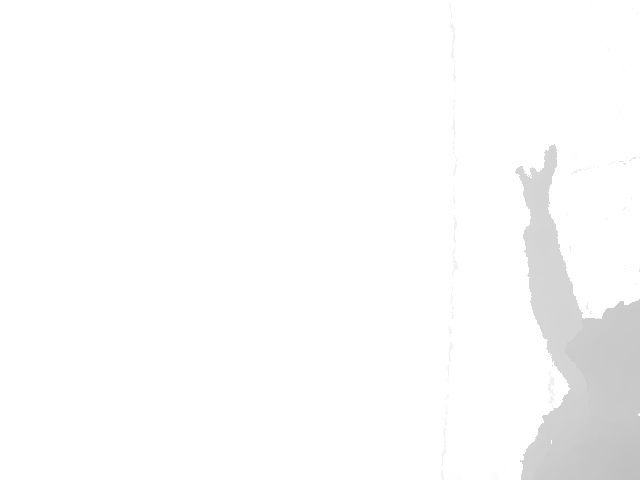hand: (515, 144, 559, 208)
head: (564, 299, 640, 369)
person: (515, 144, 637, 480)
